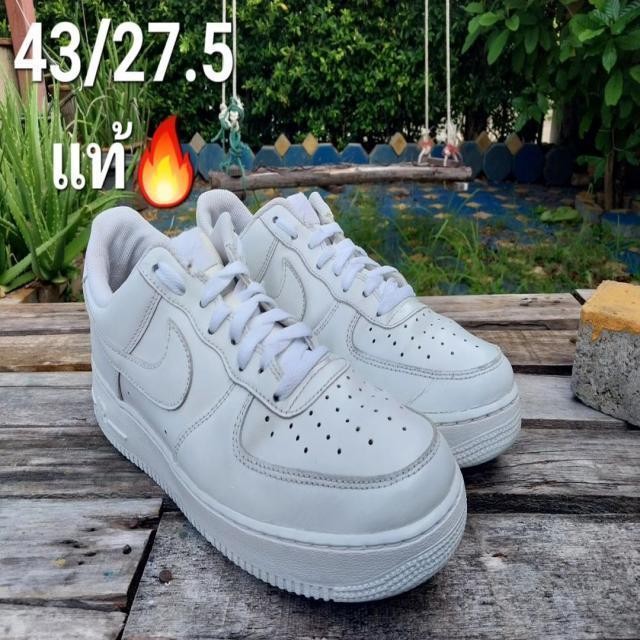nike original air force: (82, 211, 474, 603), (198, 184, 530, 468)
